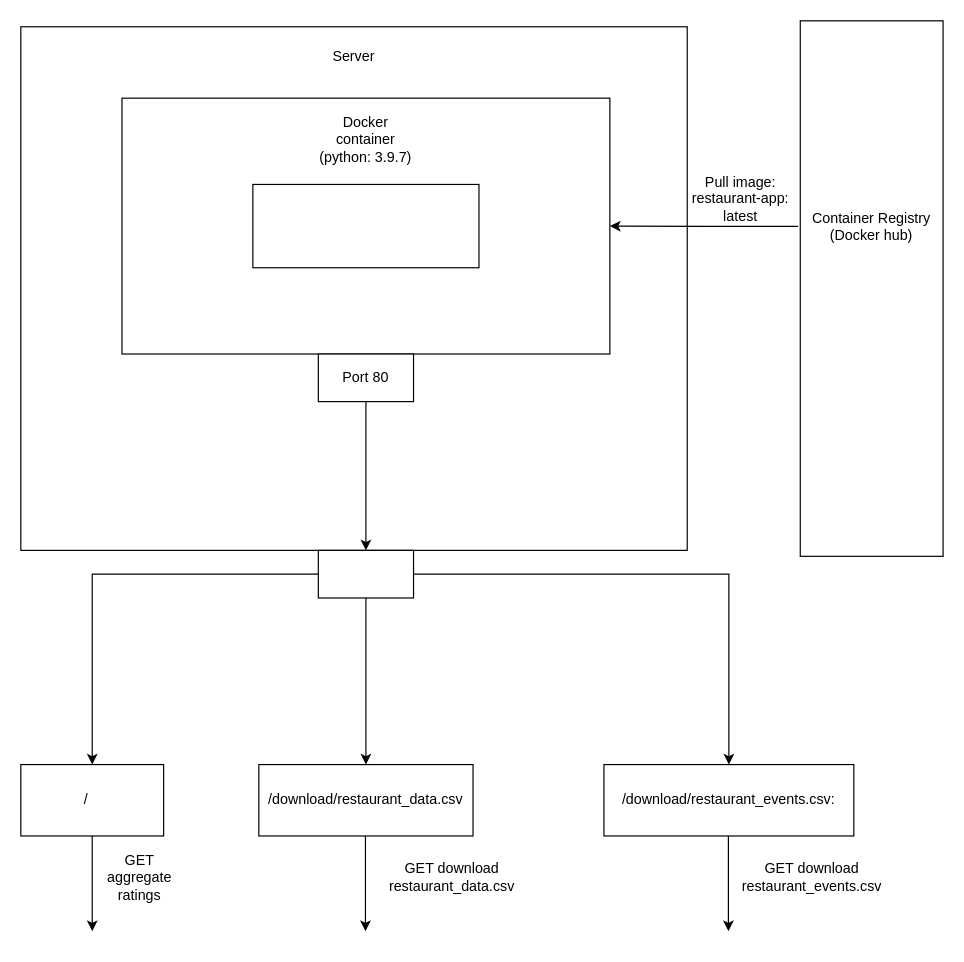
Image size: 964x962. Some labels were removed from this diagram. The shapes that lost their labels are listed below. From the top down, each one's box as (x1, y1, x2, y2) in pixels, then its label:
(252, 183, 479, 268): Application
(317, 549, 414, 598): Port 4000
